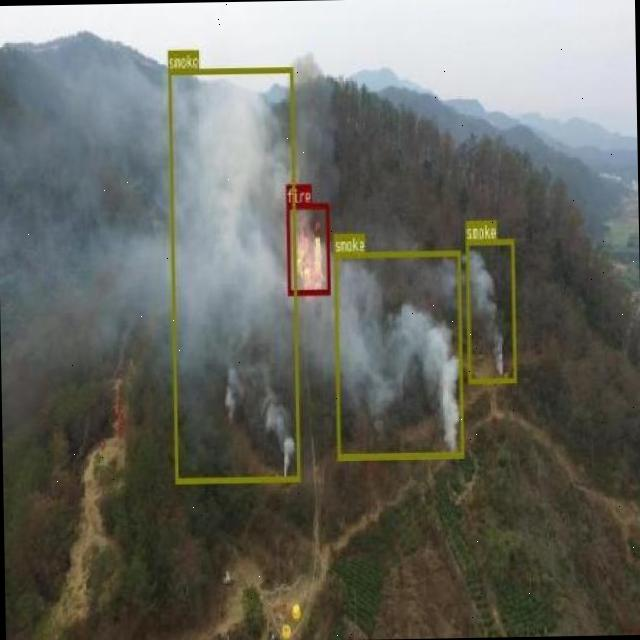fire: (285, 202, 330, 294)
smoke: (166, 66, 300, 482), (334, 250, 464, 460), (464, 238, 516, 382)
